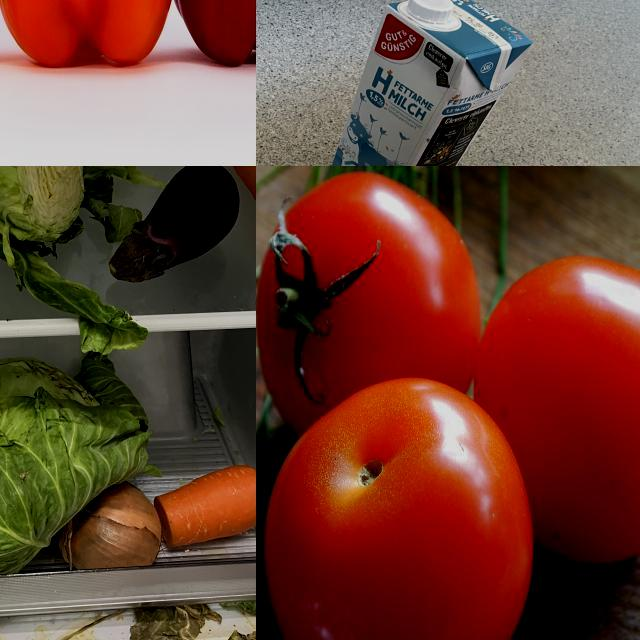bell_pepper: (1, 1, 173, 70)
cabbage: (1, 351, 158, 587), (1, 167, 113, 298)
carrot: (151, 464, 257, 554), (218, 167, 257, 247)
eggplant: (107, 167, 246, 285)
onion: (53, 482, 169, 580)
tomato: (266, 376, 537, 640), (257, 174, 485, 445), (478, 254, 640, 563)
